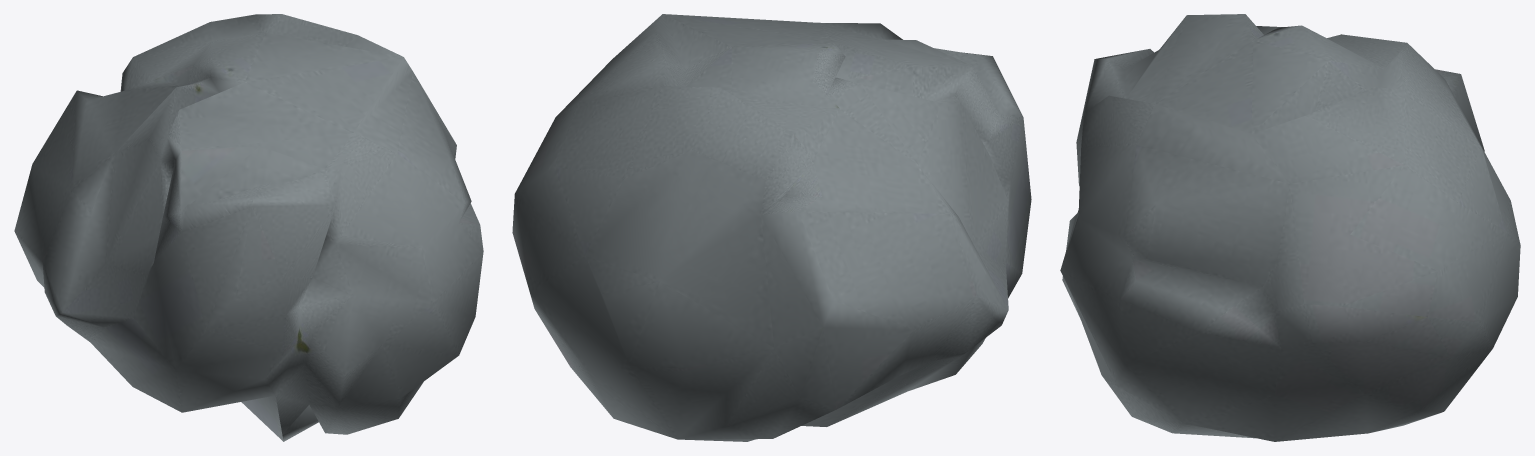
The model's file is world-boulder.glb.
3 views of the same model, side by side, from view 1: azimuth 30°, elevation 25°; view 2: azimuth 150°, elevation 25°; view 3: azimuth 270°, elevation 25° (orthographic). The views are drawn at different scales.
Bounding box in the file's own units: 1.5 × 1.21 × 1.41.
Materials: 1 (1 with a texture image).
